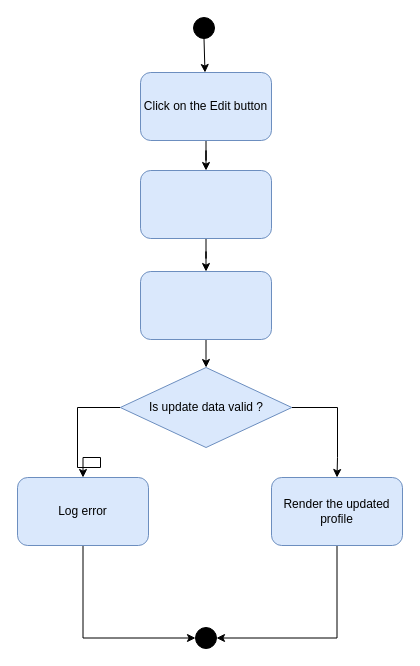
Image size: 420x666. Some labels were removed from this diagram. The shapes that lost their labels are listed below. From the top down, each one's box as (x1, y1, x2, y2) in pixels, then its label:
(140, 170, 272, 238): Enter the content want to update with the coresponding fieald
(140, 270, 272, 340): Click "save" button
